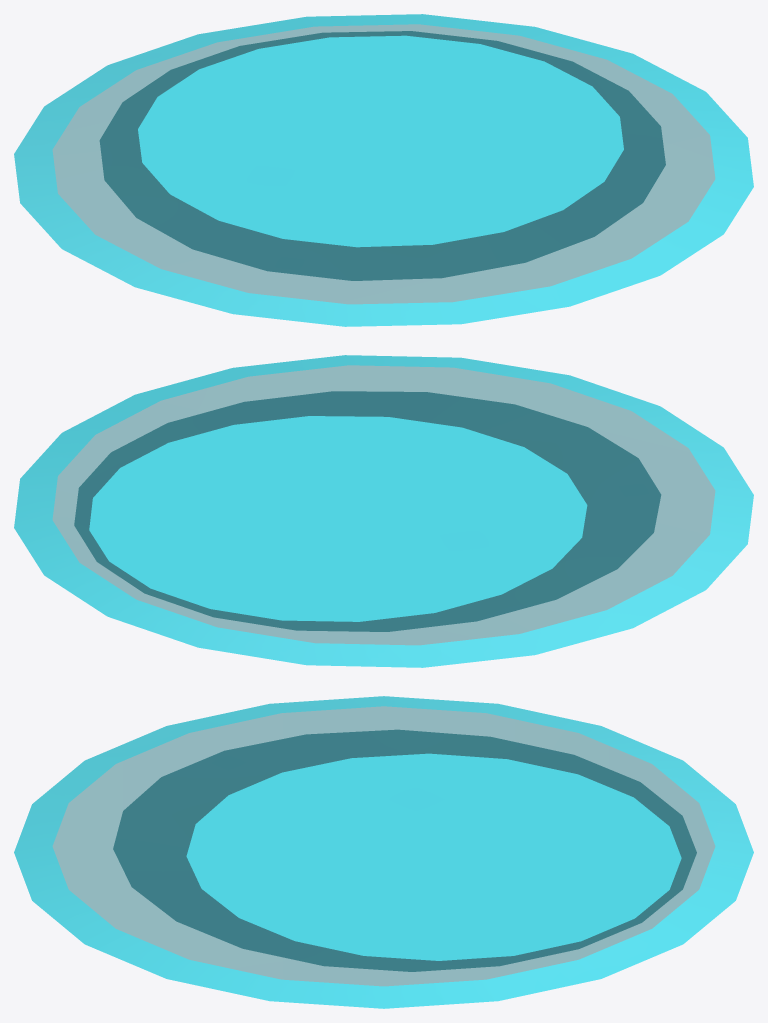
The model's file is Doll_OB_ToyWater01.fbx.
3 views of the same model, one above another, from view 1: azimuth 30°, elevation 25°; view 2: azimuth 150°, elevation 25°; view 3: azimuth 270°, elevation 25° (orthographic).
Parts seen in each view (by area): view 1: Doll_OB_ToyWater01; view 2: Doll_OB_ToyWater01; view 3: Doll_OB_ToyWater01.
Part boxes in pixels (bbox=[...]): Doll_OB_ToyWater01: bbox=[14, 14, 753, 326]; Doll_OB_ToyWater01: bbox=[14, 355, 753, 667]; Doll_OB_ToyWater01: bbox=[14, 696, 753, 1008].
Size of the model in its own units: 30.63 by 0.2783 by 30.63.
Materials: 1 (1 with a texture image).
